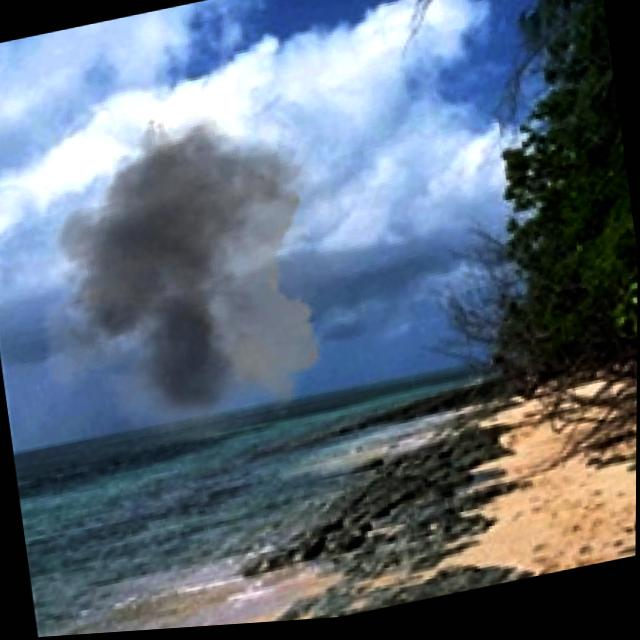Smoke: (0, 68, 403, 477)
